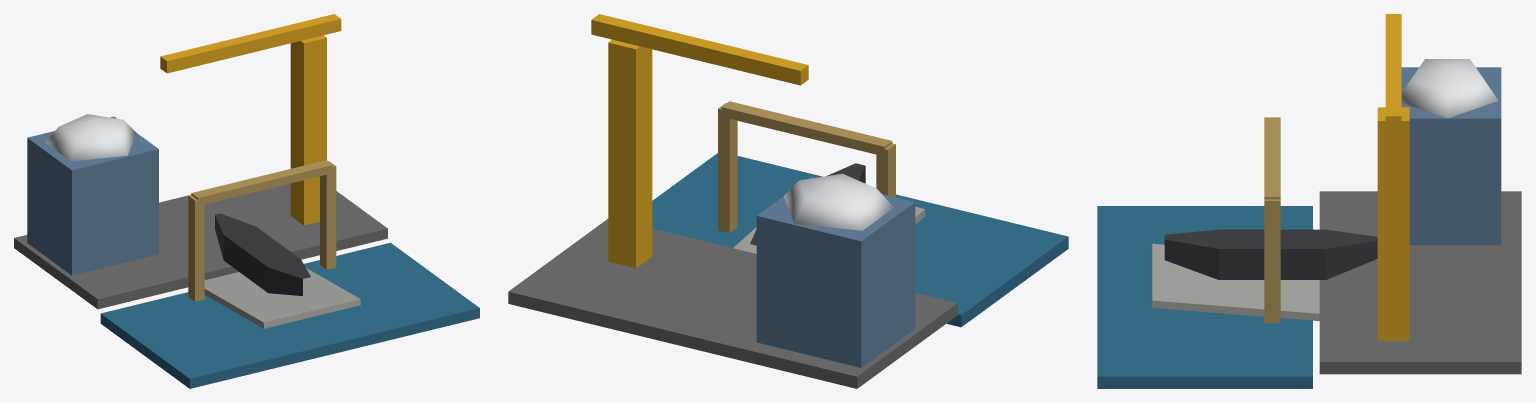
File: bld_special_shipyard_a10_lod2.glb
3 renders of one model, left to right at view 1: azimuth 30°, elevation 25°; view 2: azimuth 150°, elevation 25°; view 3: azimuth 270°, elevation 25°, orthographic. The views are drawn at different scales.
Parts seen in each view (by area): view 1: body, crane; view 2: body, crane; view 3: body, crane.
Boxes of the visible parts, x1,y1,x2,y2 form: body: (14, 114, 479, 388); crane: (160, 14, 341, 225); body: (508, 101, 1068, 388); crane: (591, 14, 808, 268); body: (1097, 59, 1521, 388); crane: (1377, 14, 1409, 340).
Bounding box in the file's own units: 15 × 10.7 × 15.75.
